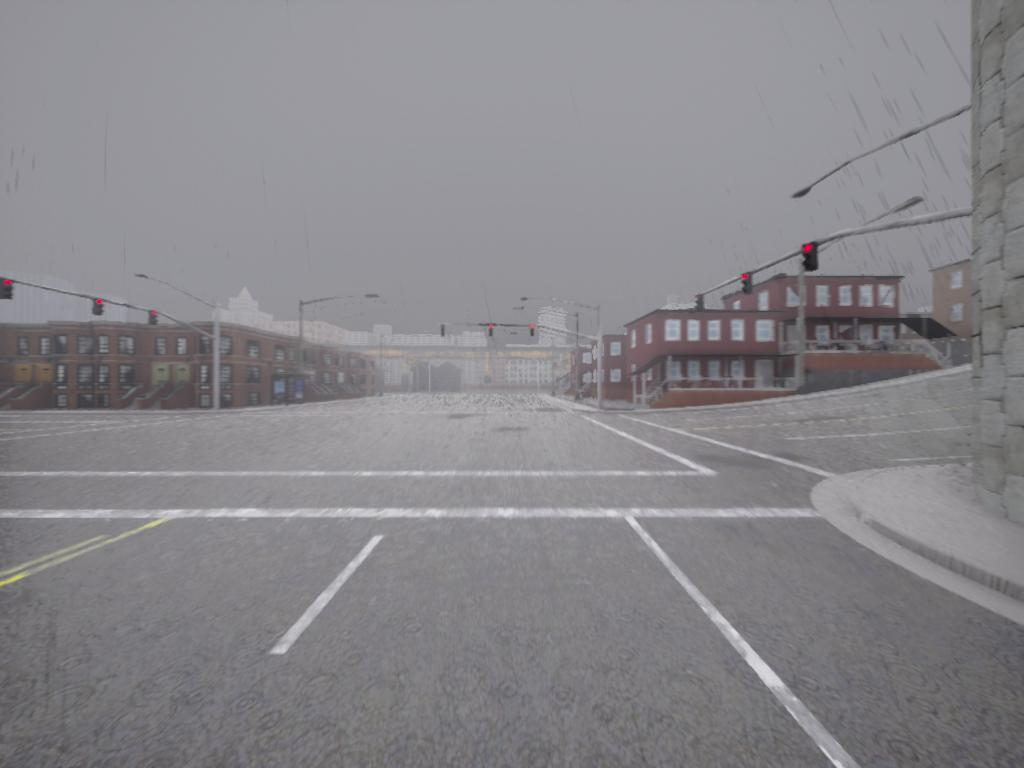traffic_light: (803, 243, 821, 272), (1, 279, 14, 301), (148, 310, 162, 328), (743, 274, 754, 295), (694, 295, 705, 315), (94, 298, 106, 314), (532, 326, 540, 339), (440, 324, 447, 338), (489, 326, 494, 340)
